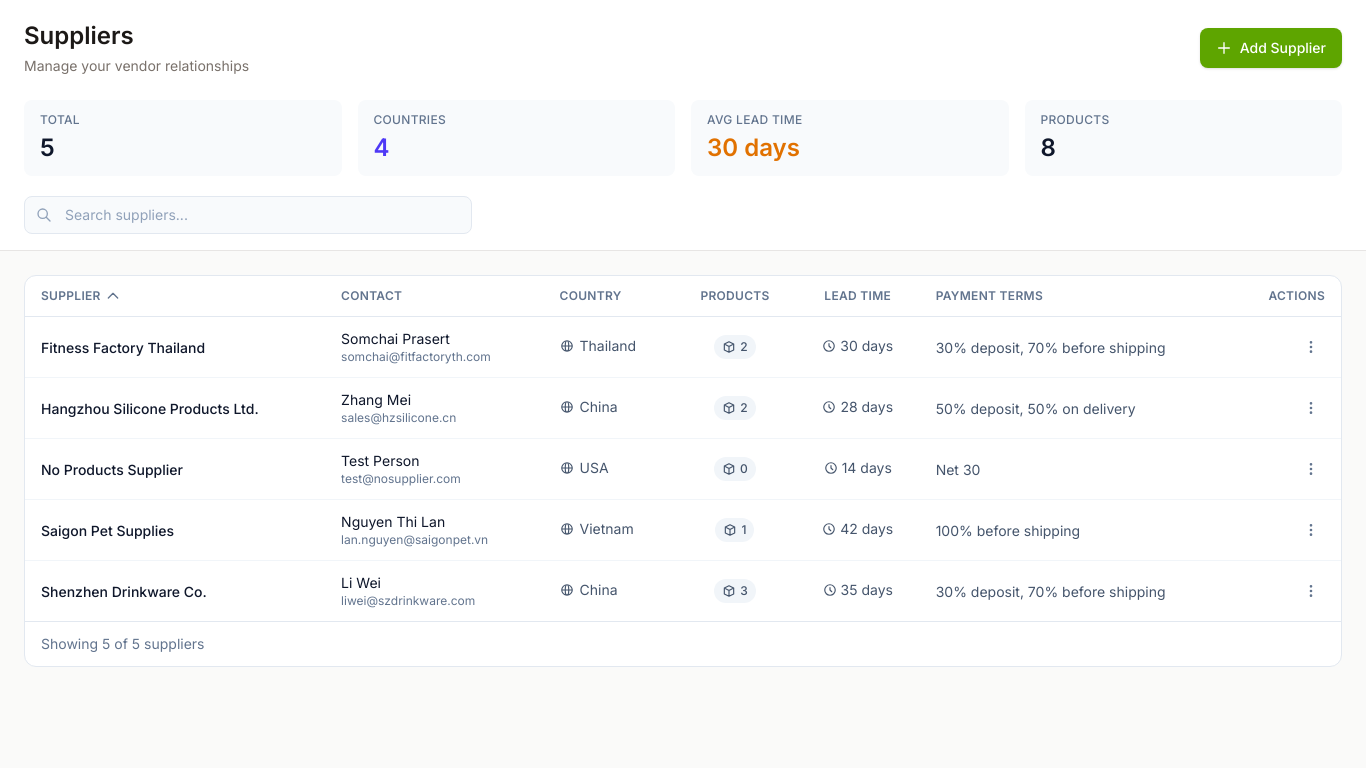
Scenario: Suppliers - Search Suppliers › filters suppliers by country
This screenshot has width=1366, height=768.
Type "Vietnam" into the field with placeholder "Search suppliers..." at (248, 215), box x1=24 y1=196 x2=472 y2=234
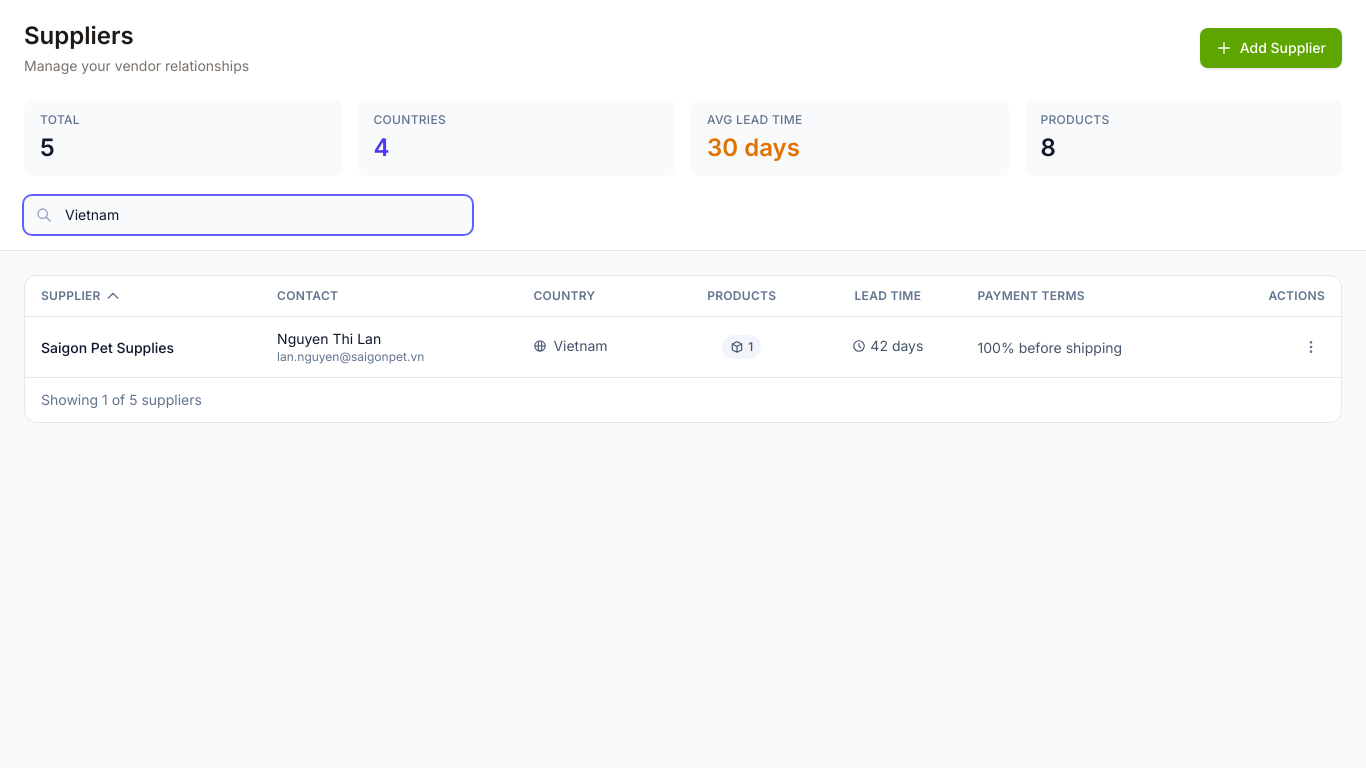
Check: the button "Saigon Pet Supplies" is shown, box x1=41 y1=338 x2=174 y2=358
Check: the button "Shenzhen Drinkware Co." is gone
